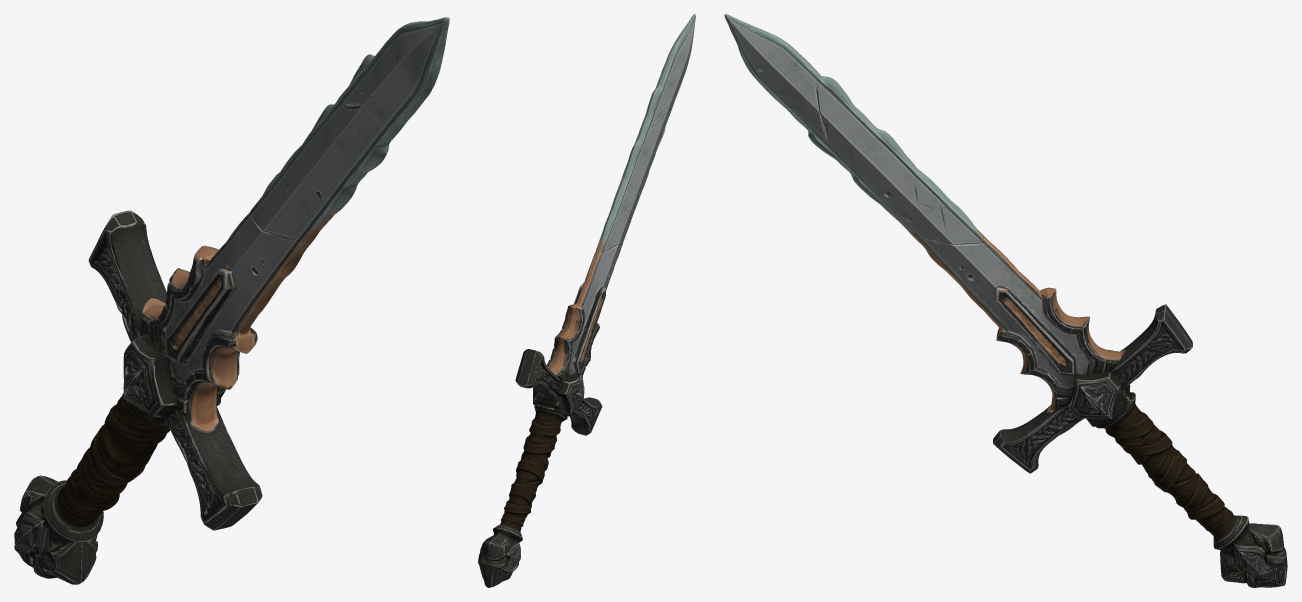
The model's file is 2h_sword01.glb.
3 renders of one model, left to right at view 1: azimuth 30°, elevation 25°; view 2: azimuth 150°, elevation 25°; view 3: azimuth 270°, elevation 25°, orthographic. The views are drawn at different scales.
Parts seen in each view (by area): view 1: tripo_node_5e513d90-306c-4a1e-8922-d74dc45d2864; view 2: tripo_node_5e513d90-306c-4a1e-8922-d74dc45d2864; view 3: tripo_node_5e513d90-306c-4a1e-8922-d74dc45d2864.
Boxes of the visible parts, x1,y1,x2,y2 form: tripo_node_5e513d90-306c-4a1e-8922-d74dc45d2864: (14,17,449,584); tripo_node_5e513d90-306c-4a1e-8922-d74dc45d2864: (478,14,695,587); tripo_node_5e513d90-306c-4a1e-8922-d74dc45d2864: (724,14,1287,587).
Size of the model in its own units: 0.1197 by 0.9998 by 0.8923.
Materials: 1 (1 with a texture image).
